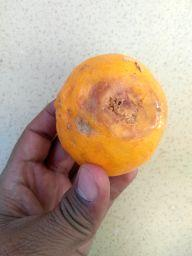Unripe: (57, 56, 167, 175)
